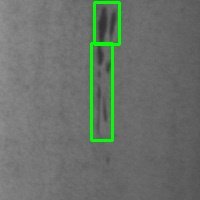inclusion: (91, 43, 112, 140), (94, 2, 119, 44)
